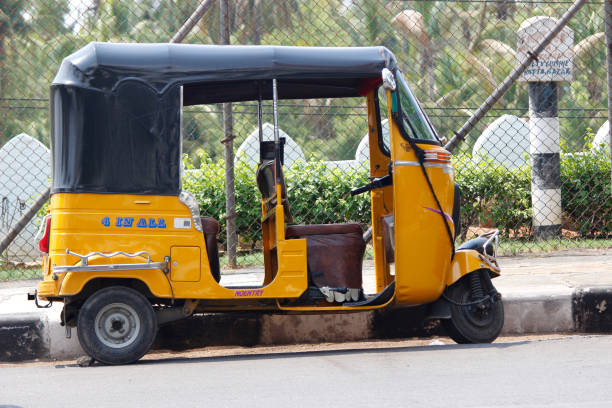threewheel: (35, 41, 505, 364)
